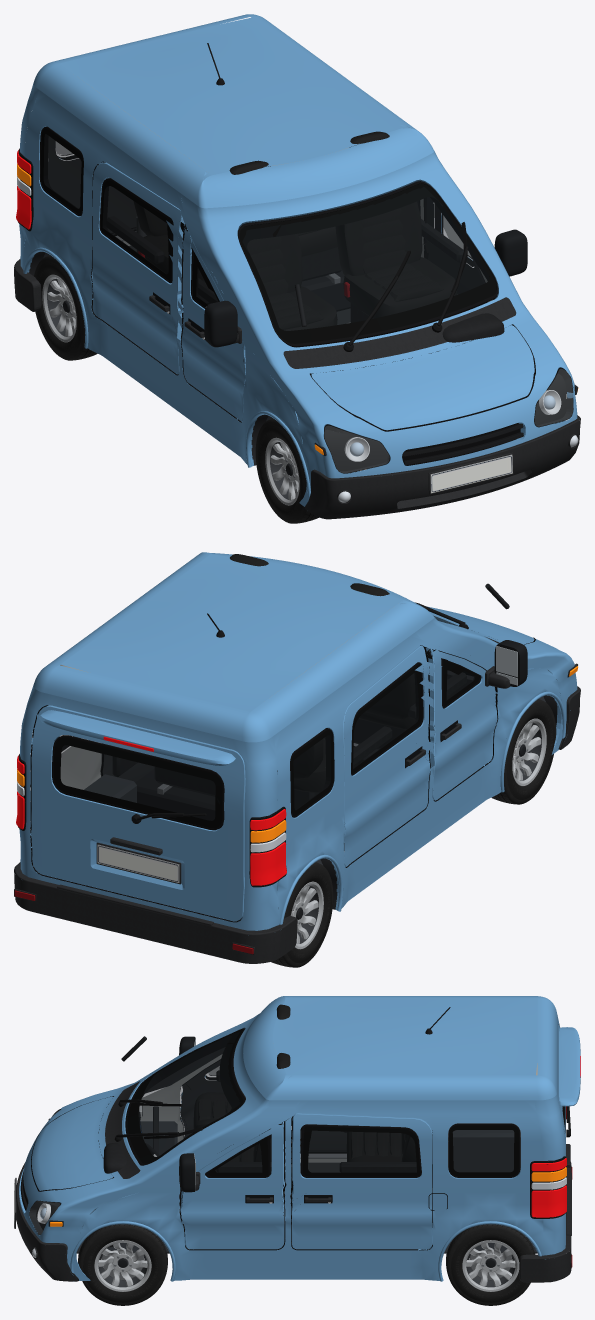
The model's file is city-five-door.glb.
3 views of the same model, one above another, from view 1: azimuth 30°, elevation 25°; view 2: azimuth 150°, elevation 25°; view 3: azimuth 270°, elevation 25° (orthographic). The views are drawn at different scales.
Parts seen in each view (by area): view 1: City_Five_Door, Door_Rear_R, Door_R, Wheel_Front_R, Wheel_Rear_R, Door_L, Tailgate; view 2: City_Five_Door, Tailgate, Door_Rear_R, Door_R, Wheel_Front_R, Wheel_Rear_R, Door_Rear_L; view 3: City_Five_Door, Door_Rear_L, Door_L, Wheel_Front_L, Wheel_Rear_L, Tailgate, Door_R, Door_Rear_R.
Boxes of the visible parts, x1=… form: City_Five_Door: x1=14, y1=14, x2=580, y2=519; Door_Rear_R: x1=91, y1=162, x2=184, y2=374; Door_R: x1=180, y1=212, x2=245, y2=421; Wheel_Front_R: x1=255, y1=418, x2=319, y2=523; Wheel_Rear_R: x1=34, y1=255, x2=97, y2=360; Door_L: x1=421, y1=197, x2=527, y2=313; Tailgate: x1=48, y1=136, x2=136, y2=234; City_Five_Door: x1=14, y1=552, x2=580, y2=963; Tailgate: x1=31, y1=705, x2=245, y2=921; Door_Rear_R: x1=343, y1=645, x2=430, y2=866; Door_R: x1=408, y1=640, x2=527, y2=800; Wheel_Front_R: x1=491, y1=699, x2=556, y2=804; Wheel_Rear_R: x1=271, y1=862, x2=333, y2=967; Door_Rear_L: x1=100, y1=745, x2=154, y2=782; City_Five_Door: x1=14, y1=996, x2=572, y2=1282; Door_Rear_L: x1=292, y1=1113, x2=432, y2=1249; Door_L: x1=179, y1=1114, x2=294, y2=1249; Wheel_Front_L: x1=78, y1=1224, x2=167, y2=1305; Wheel_Rear_L: x1=446, y1=1224, x2=535, y2=1305; Tailgate: x1=558, y1=1025, x2=580, y2=1167; Door_R: x1=179, y1=1036, x2=287, y2=1137; Door_Rear_R: x1=300, y1=1124, x2=346, y2=1151.
Bounding box in the file's own units: 2.01 × 1.84 × 3.78.
54 materials, 9 textured.
